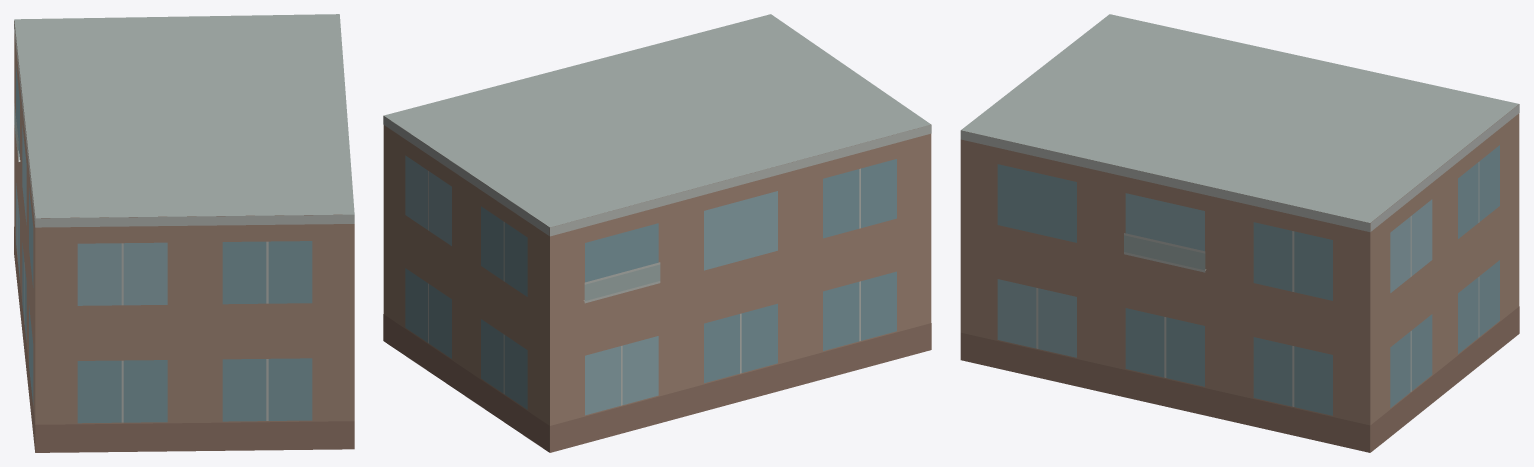
Rendered from survey-upis-32657312.glb.
The picture shows the model from 3 angles, left to right: view 1: azimuth 30°, elevation 25°; view 2: azimuth 150°, elevation 25°; view 3: azimuth 270°, elevation 25°; orthographic projection. The views are drawn at different scales.
Visible parts, largest first — view 1: survey-upis-32657312.tmp; view 2: survey-upis-32657312.tmp; view 3: survey-upis-32657312.tmp.
Part boxes in pixels (x1=…): survey-upis-32657312.tmp: x1=14, y1=14, x2=354, y2=452; survey-upis-32657312.tmp: x1=383, y1=14, x2=931, y2=452; survey-upis-32657312.tmp: x1=960, y1=14, x2=1519, y2=452.
Size of the model in its own units: 11.91 by 6.1 by 13.45.
